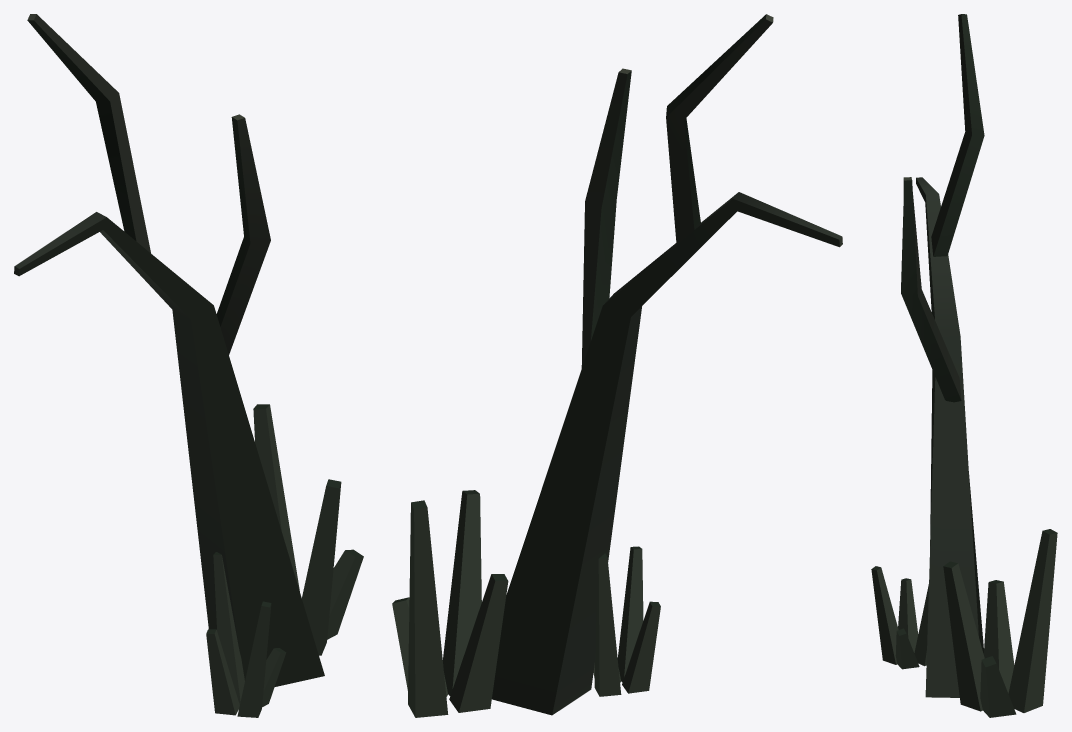
File: SF_Env_Swamp_Tree_02.glb
The picture shows the model from 3 angles, left to right: view 1: azimuth 30°, elevation 25°; view 2: azimuth 150°, elevation 25°; view 3: azimuth 270°, elevation 25°; orthographic projection. The views are drawn at different scales.
Parts seen in each view (by area): view 1: SF_Env_Swamp_Tree_02; view 2: SF_Env_Swamp_Tree_02; view 3: SF_Env_Swamp_Tree_02.
Part boxes in pixels (bbox=[...]): SF_Env_Swamp_Tree_02: bbox=[14, 14, 363, 717]; SF_Env_Swamp_Tree_02: bbox=[392, 14, 842, 717]; SF_Env_Swamp_Tree_02: bbox=[871, 14, 1057, 717].
Bounding box in the file's own units: 0.0416 × 0.0727 × 0.0212.
Materials: 1 (1 with a texture image).
